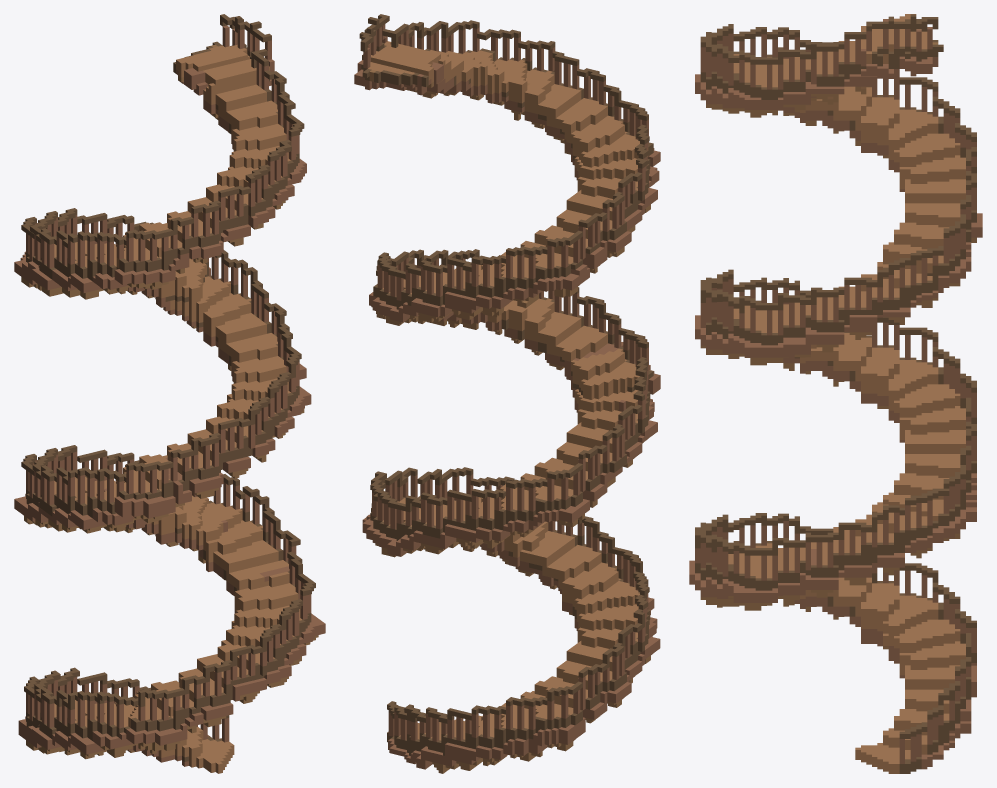
File: Pillar_lava_obj-4.obj
The picture shows the model from 3 angles, left to right: view 1: azimuth 30°, elevation 25°; view 2: azimuth 150°, elevation 25°; view 3: azimuth 270°, elevation 25°; orthographic projection. The views are drawn at different scales.
Bounding box in the file's own units: 5.4 × 15.3 × 5.3.
Materials: 1 (1 with a texture image).
